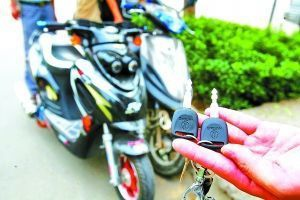non-vehicle: (30, 18, 156, 200), (125, 2, 194, 182)
